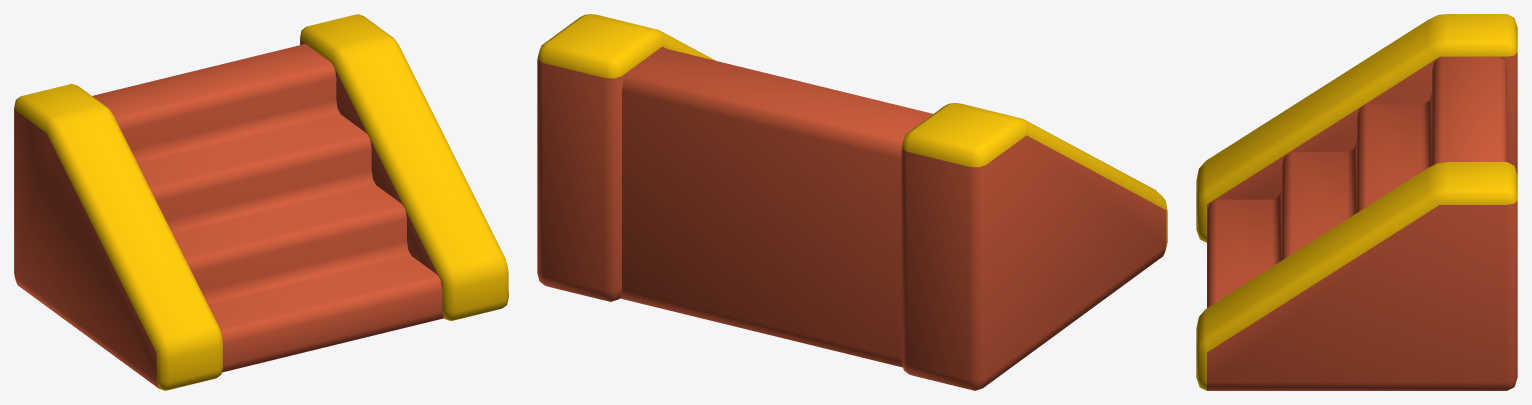
The model's file is Stairs.fbx.
3 renders of one model, left to right at view 1: azimuth 30°, elevation 25°; view 2: azimuth 150°, elevation 25°; view 3: azimuth 270°, elevation 25°, orthographic. The views are drawn at different scales.
Visible parts, largest first — view 1: Stairs; view 2: Stairs; view 3: Stairs.
Boxes of the visible parts, <box> form: Stairs: <box>14,14,508,390</box>; Stairs: <box>537,14,1167,390</box>; Stairs: <box>1196,14,1517,390</box>.
Size of the model in its own units: 2.87 by 2.14 by 1.5.
